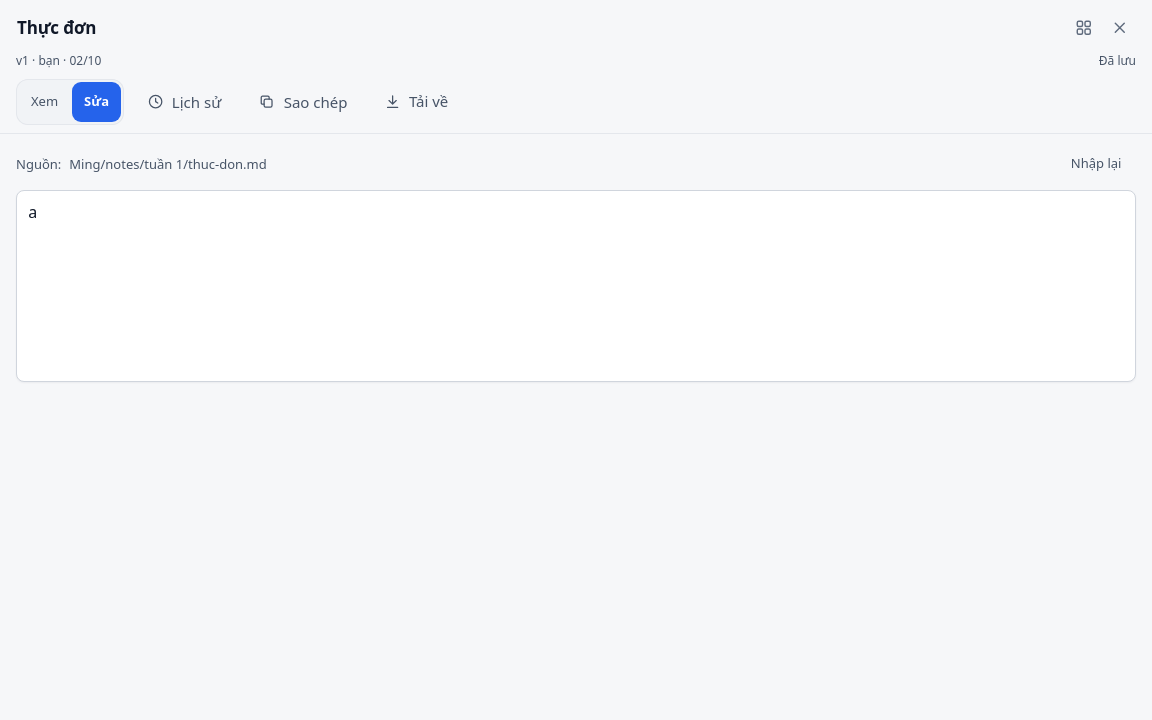
Test: reading a canvas's file again › says the typing is not saved when the save met a version written meanwhile, beside the choice that version asks for
This screenshot has width=1152, height=720.
Replace the text in the text box named "Nội dung canvas" with "a!". click: (576, 286)
box: [16, 190, 1136, 382]
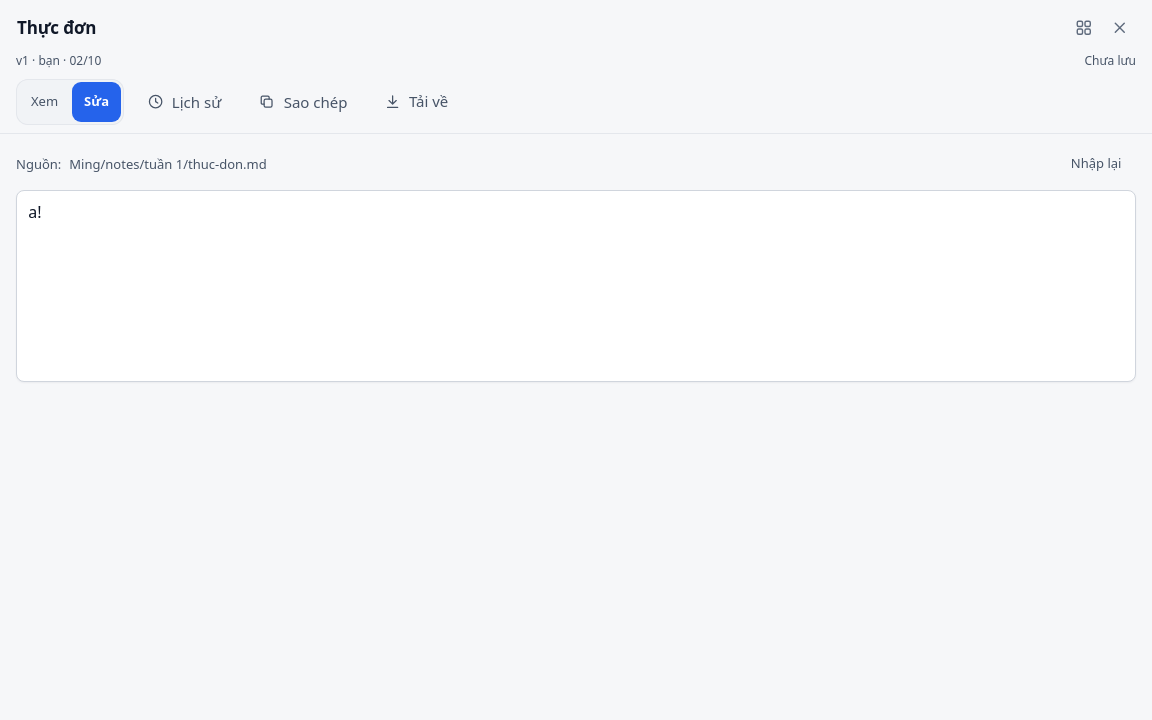
Click the button "Nhập lại". click: (1096, 164)
box: [1056, 146, 1136, 182]
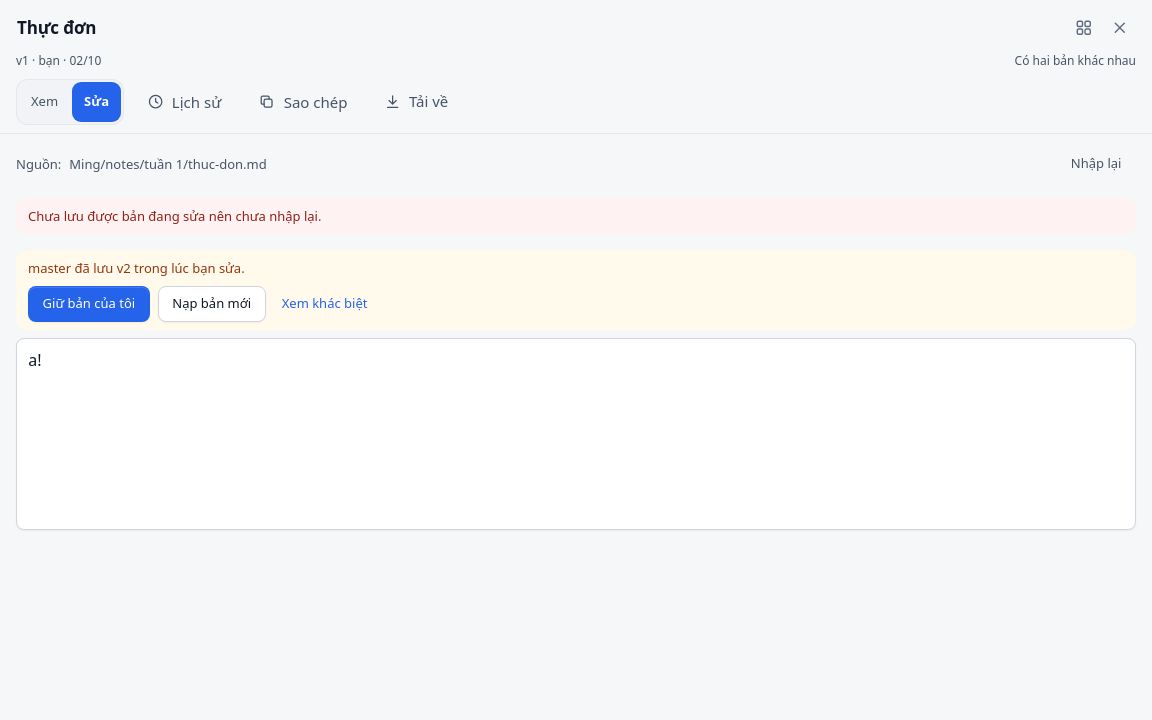
Expected: the button "Nạp bản mới" is shown, [158, 286, 266, 322]
